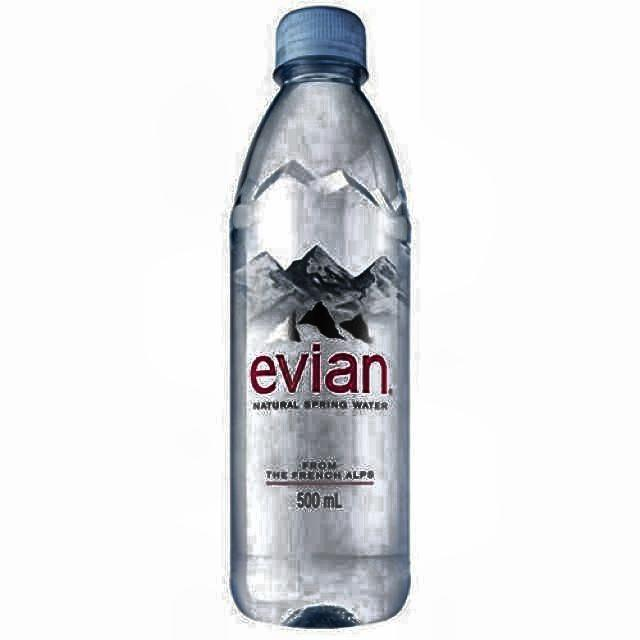plastic: (229, 5, 414, 632)
